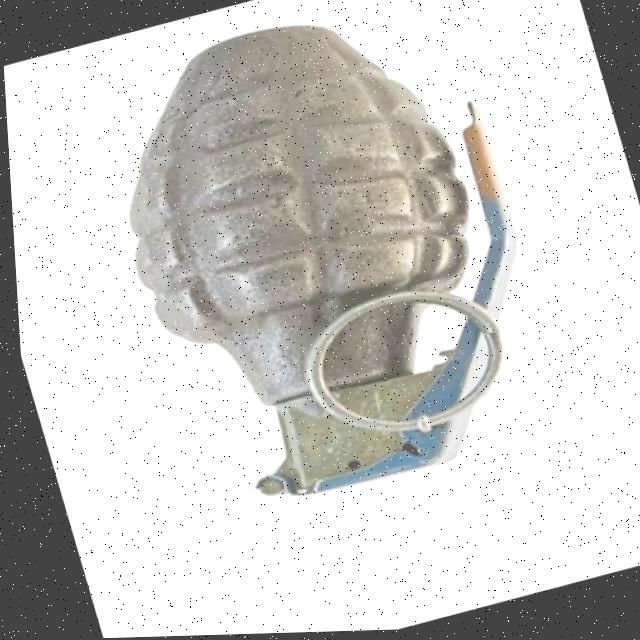grenade: (53, 0, 605, 552)
